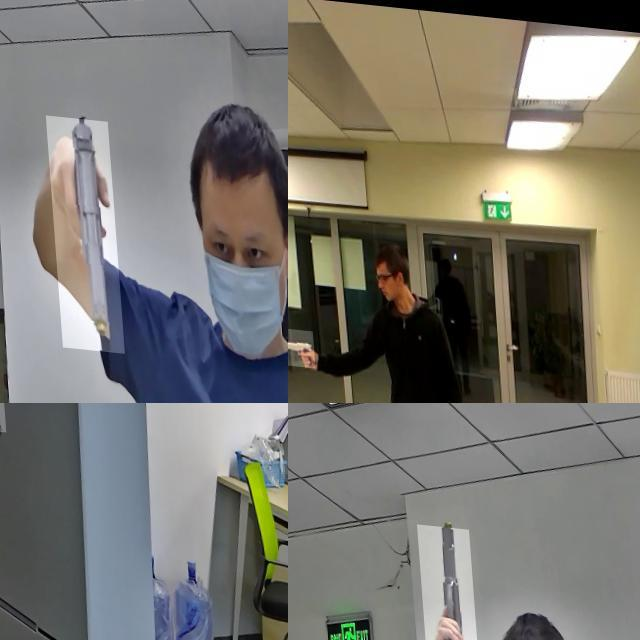gun-knife-thesis - v11 Yolov5 augmented: (41, 110, 117, 347), (412, 519, 473, 640), (288, 323, 309, 363), (0, 403, 20, 439)
